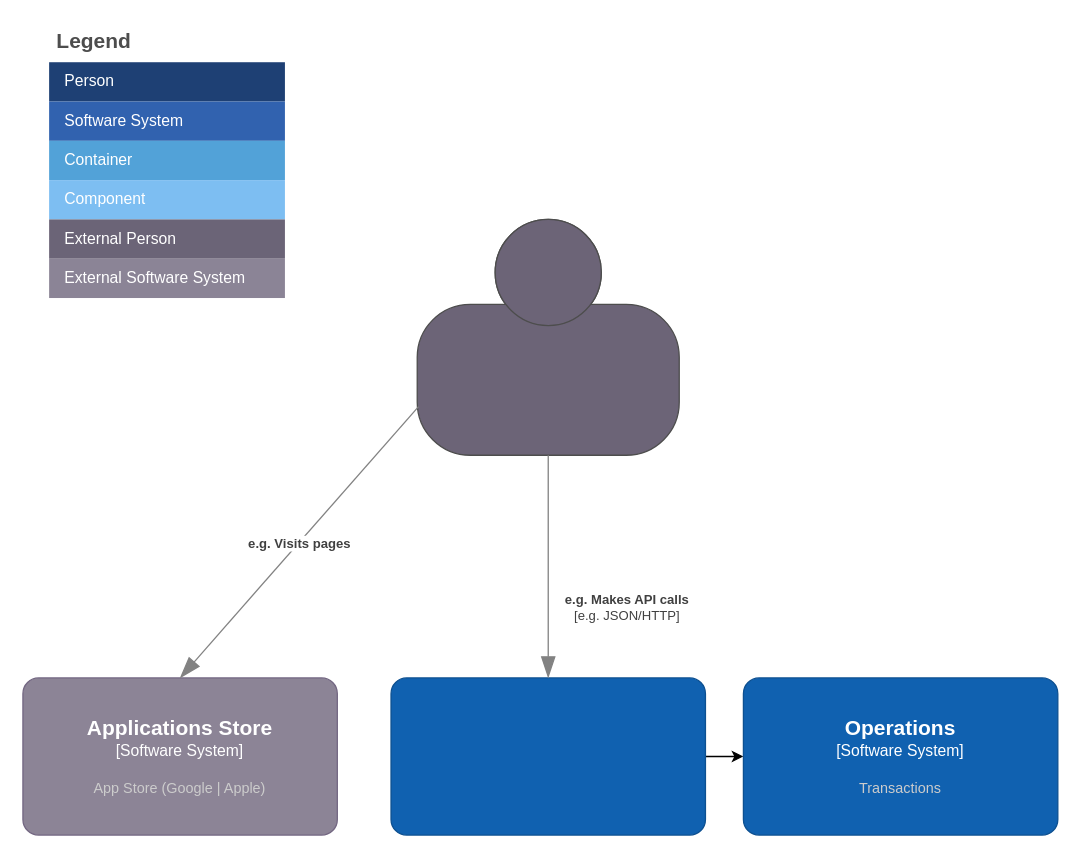
Some shapes in this 1081 by 858 pixel diagram are drawn without their labels. The shapes that lost their labels are listed below. From the top down, each one's centre as x and y in pixels, then its label:
At (547,336): "External User 1 [Person] External user that needs a virtualtoken".
At (547,756): "Virtual Token [Mobile Software System] App Virtual Token on Device".
